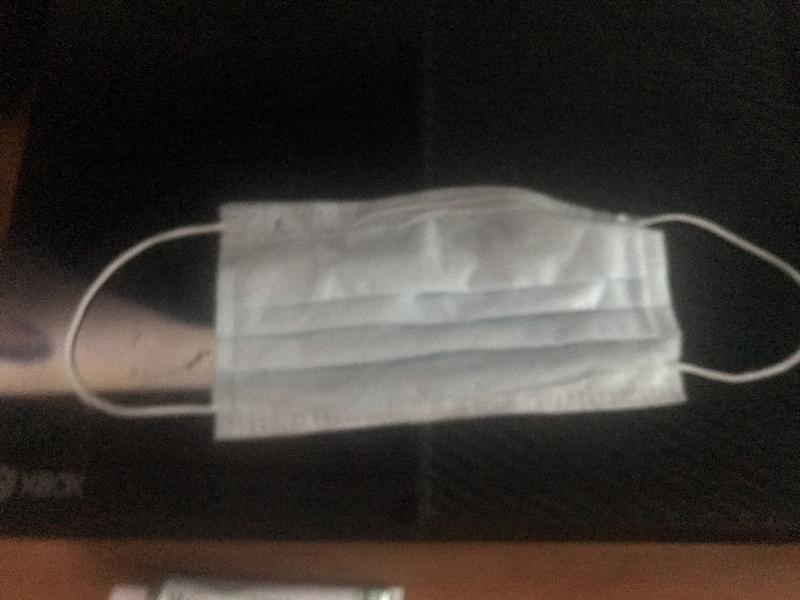medical_mask: (66, 189, 800, 422)
